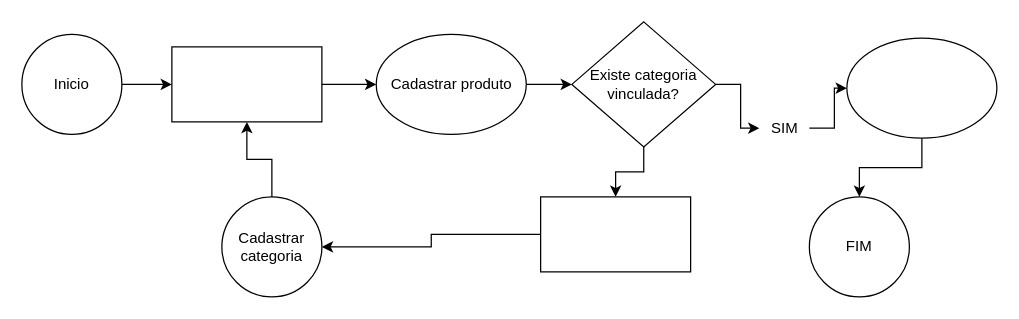
This 1019x319 diagram has some shape labels left out. Each missing label, with the box of its shape:
Tela de cadastro de produto: (171, 46, 322, 122)
Tela de categoria: (539, 196, 691, 272)
Vincular categoria ao produto: (846, 37, 997, 138)
